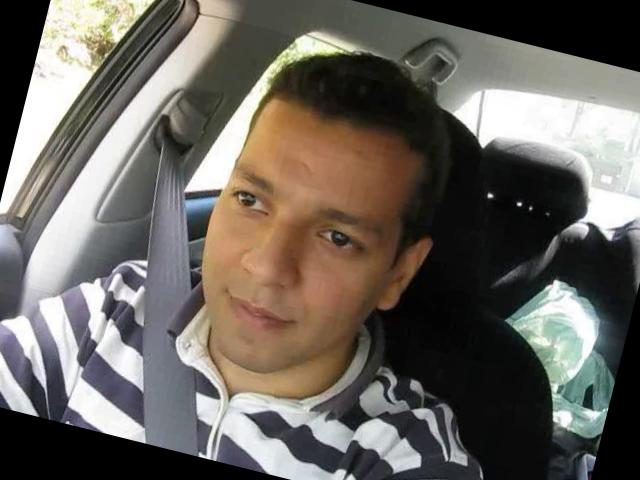eye_open: (310, 220, 372, 262), (222, 182, 273, 223)
face: (170, 147, 398, 388)
